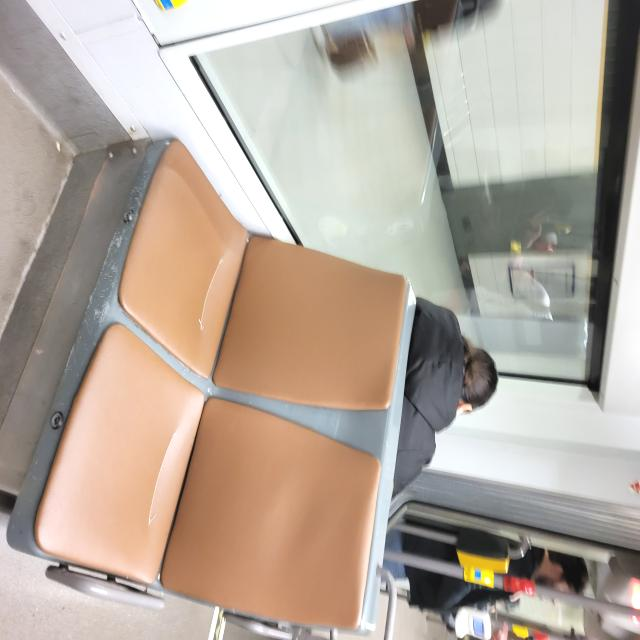asiento-libre: (265, 313, 467, 640), (427, 346, 632, 640)
